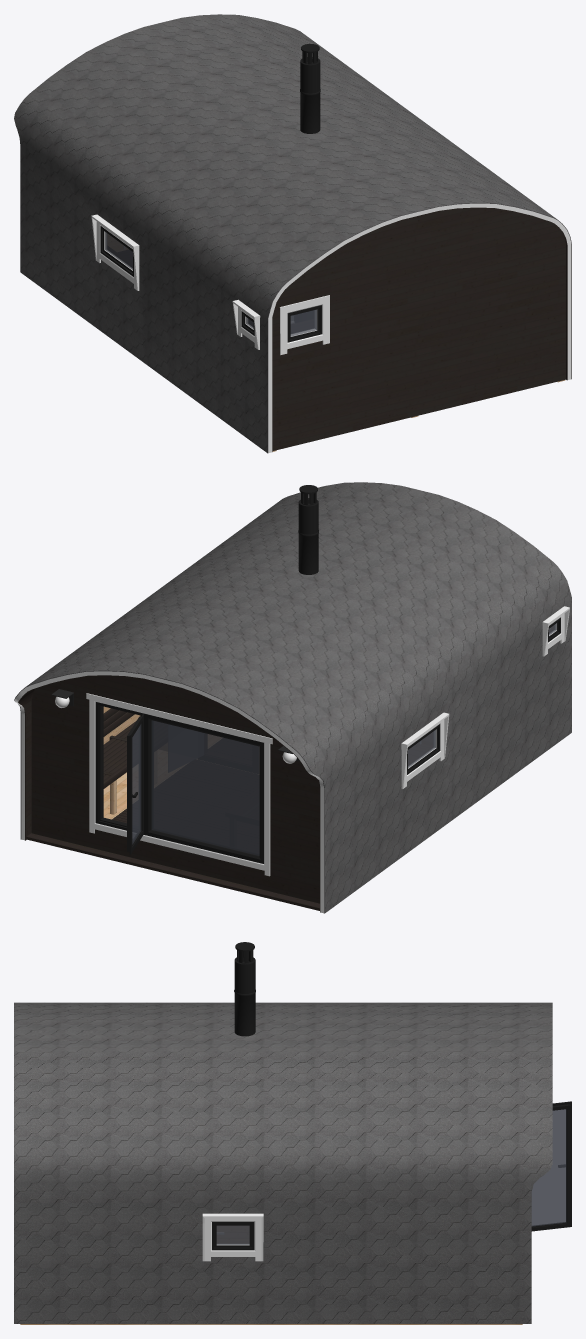
The model's file is bath.glb.
The picture shows the model from 3 angles, top to bottom: view 1: azimuth 30°, elevation 25°; view 2: azimuth 150°, elevation 25°; view 3: azimuth 270°, elevation 25°; orthographic projection. The views are drawn at different scales.
Visible parts, largest first — view 1: OuterShell, Object002_TimberDark_0, Rim, Cylinder005, WindowEnter004, WindowEnter001, InnerChell, WindowEnter003, Galss003; view 2: OuterShell, Object_TimberDark_0, Galss, Object004_BlackPlastic_0, WindowEnter, Rim, OutFloor, Cylinder005, InnerChell, Box123, WindowEnter001, Galss005 (+3 smaller); view 3: OuterShell, Galss005, Cylinder005, WindowEnter005, Box123, Galss004, Object014_BlackPlastic_0, Stand.
Boxes of the visible parts, <box> form: OuterShell: <box>14,14,571,453</box>; Object002_TimberDark_0: <box>272,208,565,450</box>; Rim: <box>268,203,571,453</box>; Cylinder005: <box>300,43,320,133</box>; WindowEnter004: <box>279,295,329,355</box>; WindowEnter001: <box>91,214,139,290</box>; InnerChell: <box>272,207,567,451</box>; WindowEnter003: <box>232,299,260,349</box>; Galss003: <box>290,309,316,336</box>; OuterShell: <box>14,482,571,913</box>; Object_TimberDark_0: <box>31,675,319,903</box>; Galss: <box>151,720,259,855</box>; Object004_BlackPlastic_0: <box>95,702,263,863</box>; WindowEnter: <box>86,693,272,876</box>; Rim: <box>14,671,324,913</box>; OutFloor: <box>26,833,319,910</box>; Cylinder005: <box>298,485,318,574</box>; InnerChell: <box>18,675,320,912</box>; Box123: <box>127,714,143,854</box>; WindowEnter001: <box>401,712,449,788</box>; Galss005: <box>132,724,141,843</box>; OuterShell: <box>14,1002,552,1323</box>; Galss005: <box>531,1109,566,1226</box>; Cylinder005: <box>234,942,255,1036</box>; WindowEnter005: <box>202,1213,263,1261</box>; Box123: <box>531,1101,571,1231</box>; Galss004: <box>216,1225,249,1244</box>; Object014_BlackPlastic_0: <box>212,1222,254,1250</box>; Stand: <box>20,1324,522,1324</box>.
Size of the model in its own units: 4.19 by 3.69 by 6.14.
Materials: 9 (3 with a texture image).
